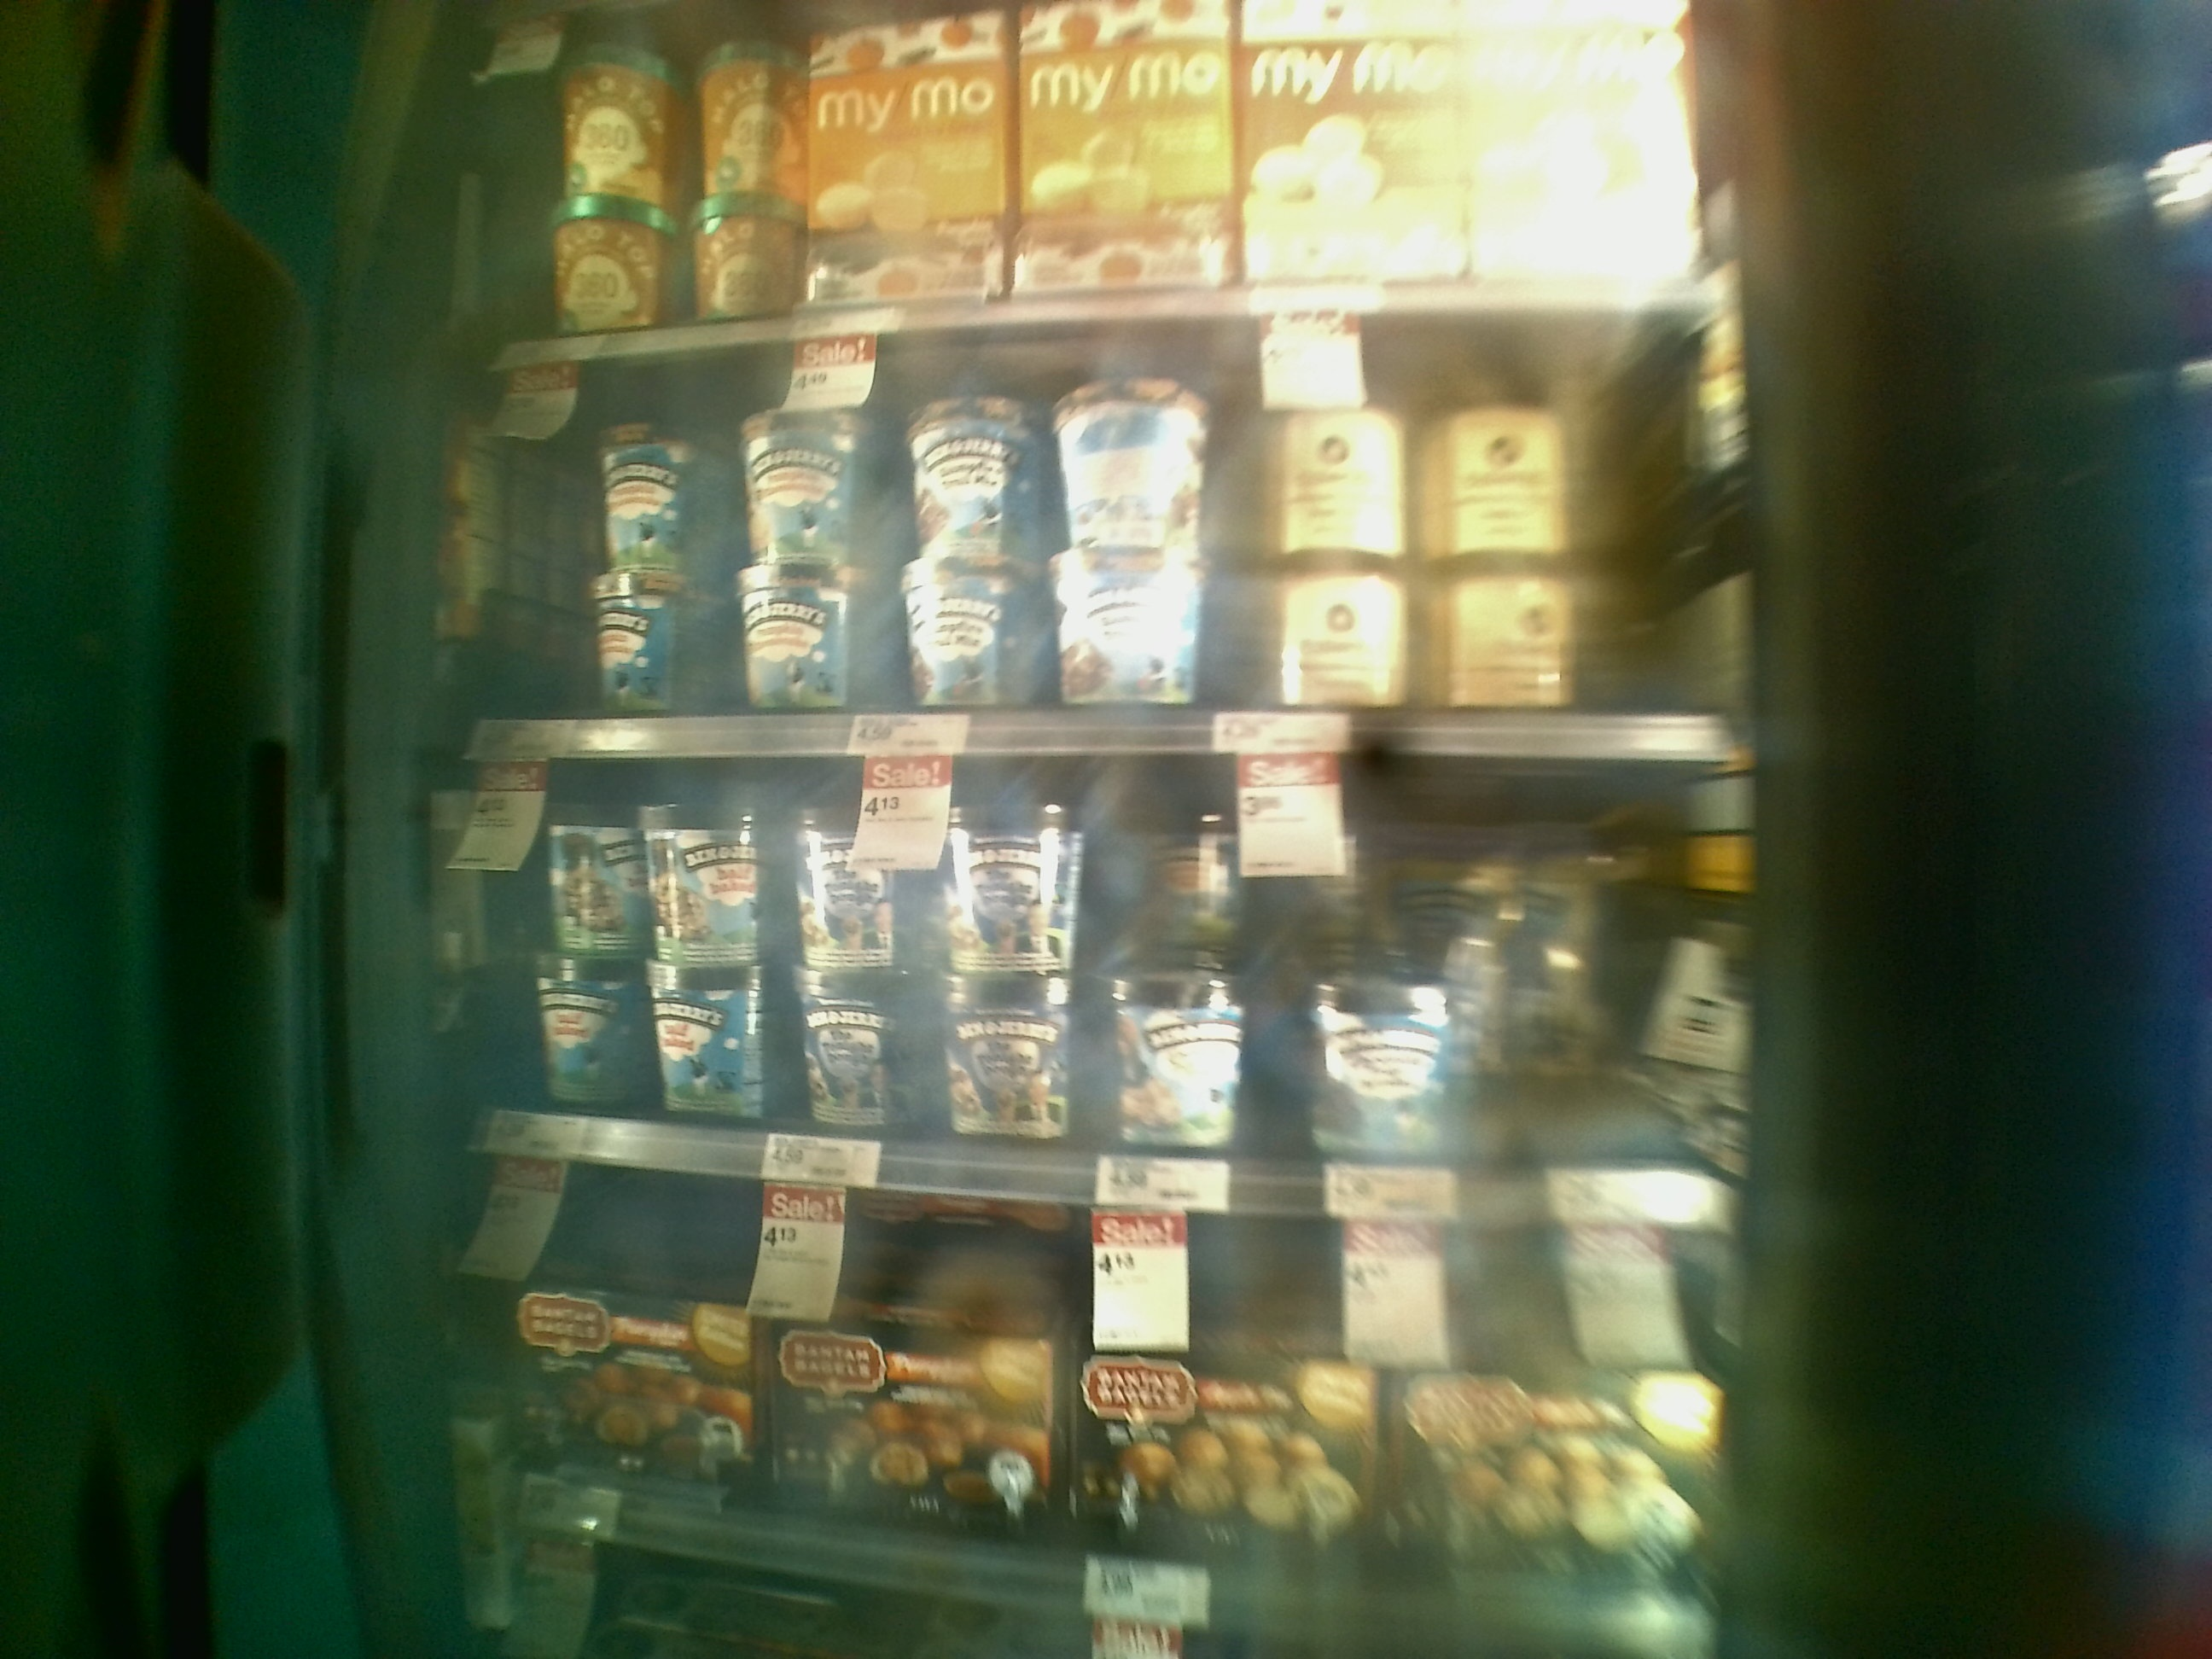shelf: (425, 723, 1742, 1229), (446, 364, 1759, 763)
